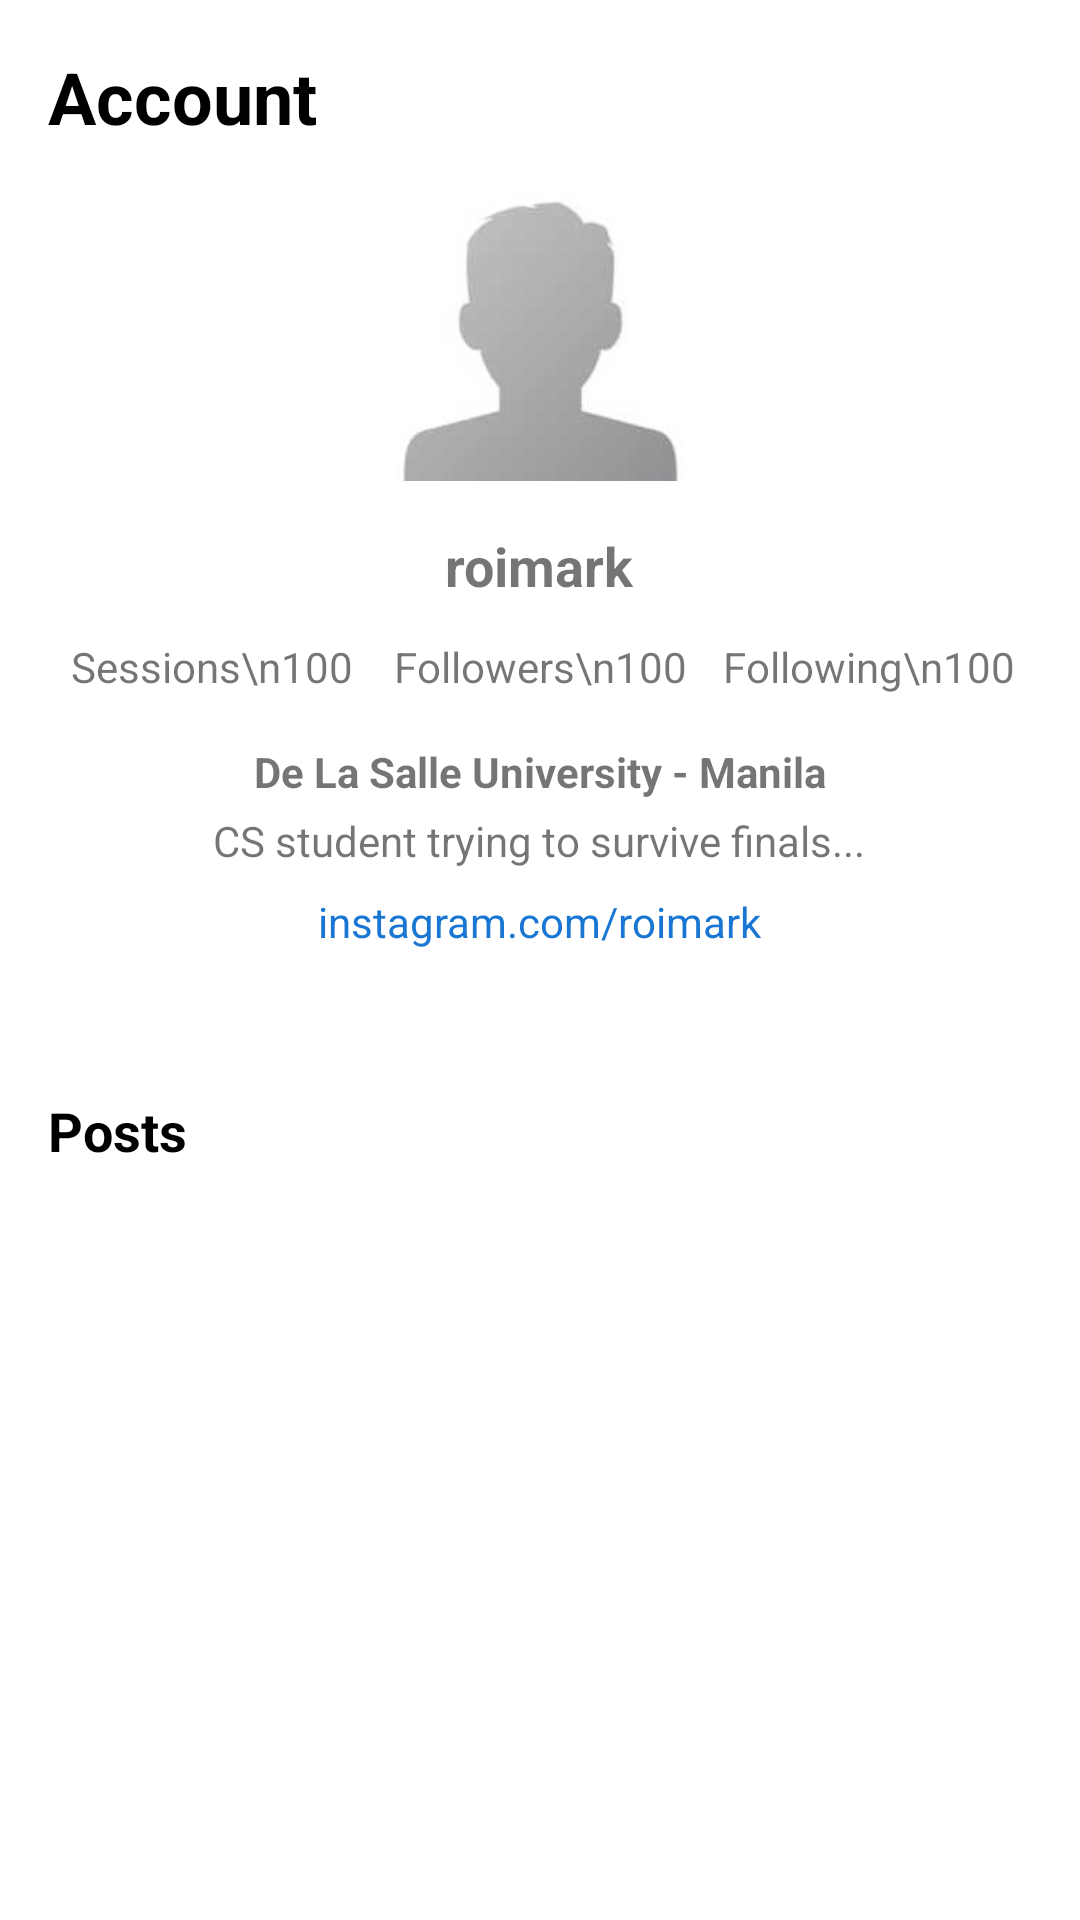

Screen size 1080px x 1920px. Icon name, then its box in pixels as [x1=x1, y1=y1, x2=x2, y2=y2]:
Profile: [x1=404, y1=202, x2=678, y2=481]
